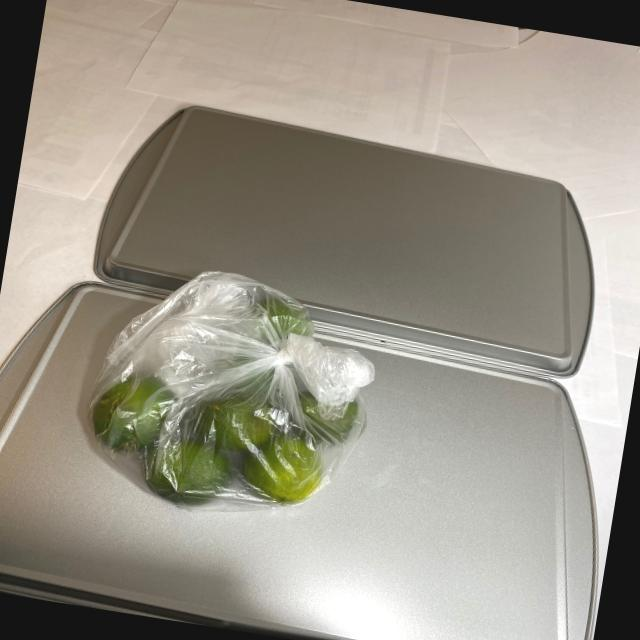lemon: (68, 266, 378, 524)
